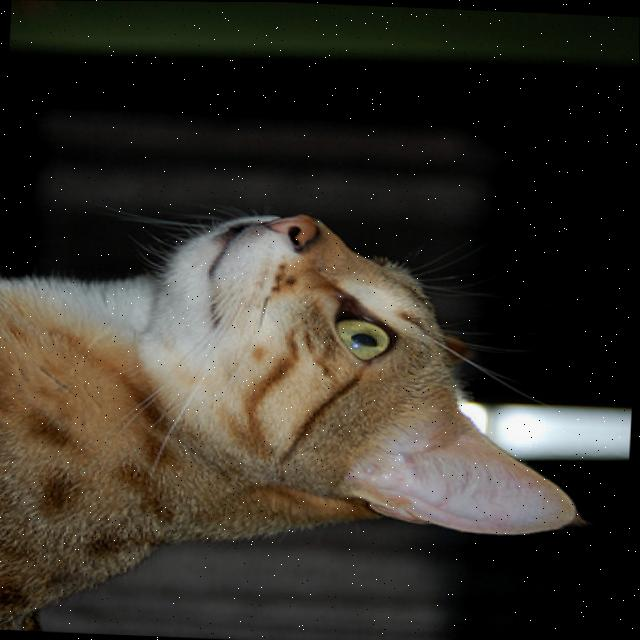Egyptian Mau: (0, 194, 600, 640)
